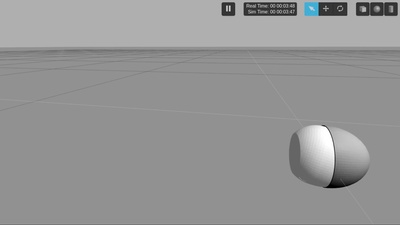mira_robot: (289, 124, 371, 189)
